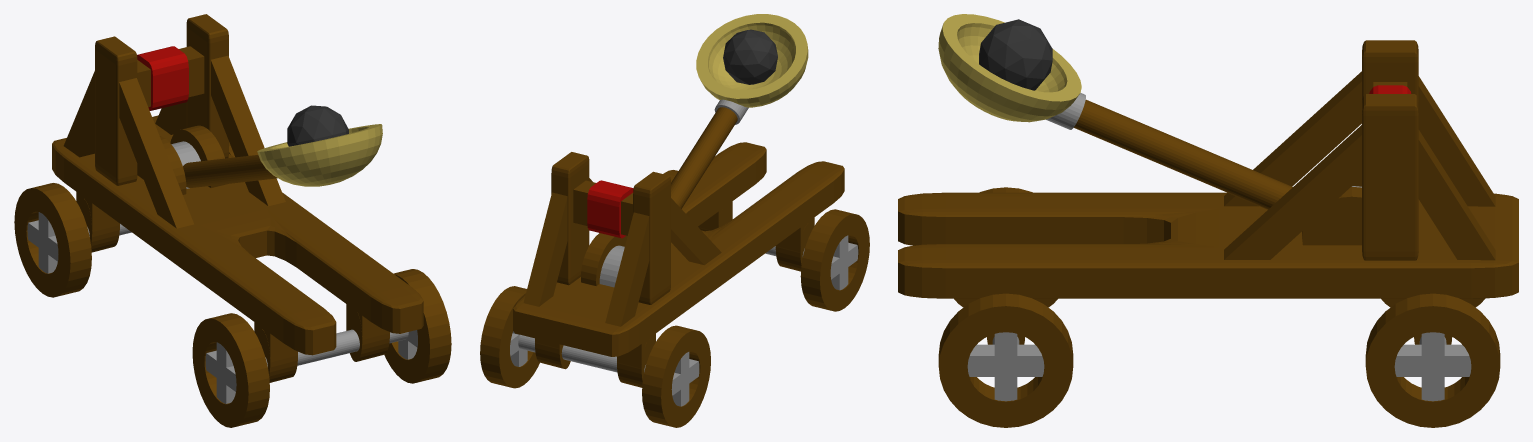
The model's file is catapulta.fbx.
The picture shows the model from 3 angles, left to right: view 1: azimuth 30°, elevation 25°; view 2: azimuth 150°, elevation 25°; view 3: azimuth 270°, elevation 25°; orthographic projection. The views are drawn at different scales.
Parts seen in each view (by area): view 1: Cube.002; view 2: Cube.002; view 3: Cube.002.
Boxes of the visible parts, bbox=[...] form: Cube.002: bbox=[14, 14, 451, 427]; Cube.002: bbox=[480, 14, 869, 427]; Cube.002: bbox=[898, 14, 1518, 427].
Bounding box in the file's own units: 731 × 991 × 1615.
